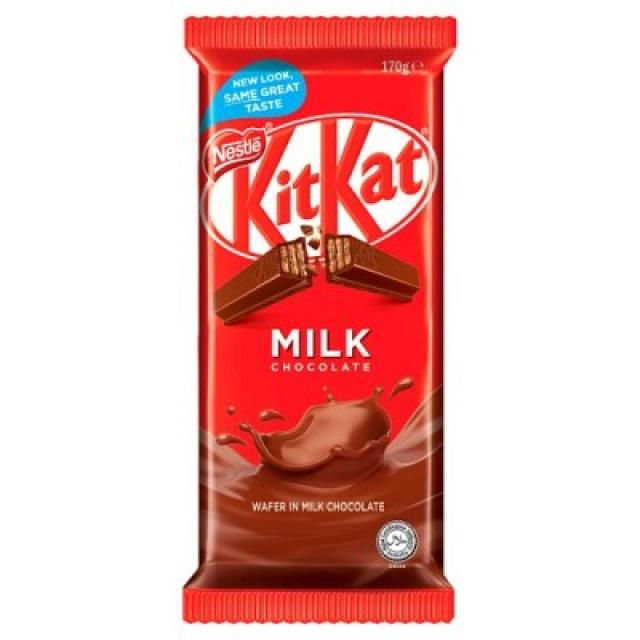kitkat: (185, 17, 458, 628)
